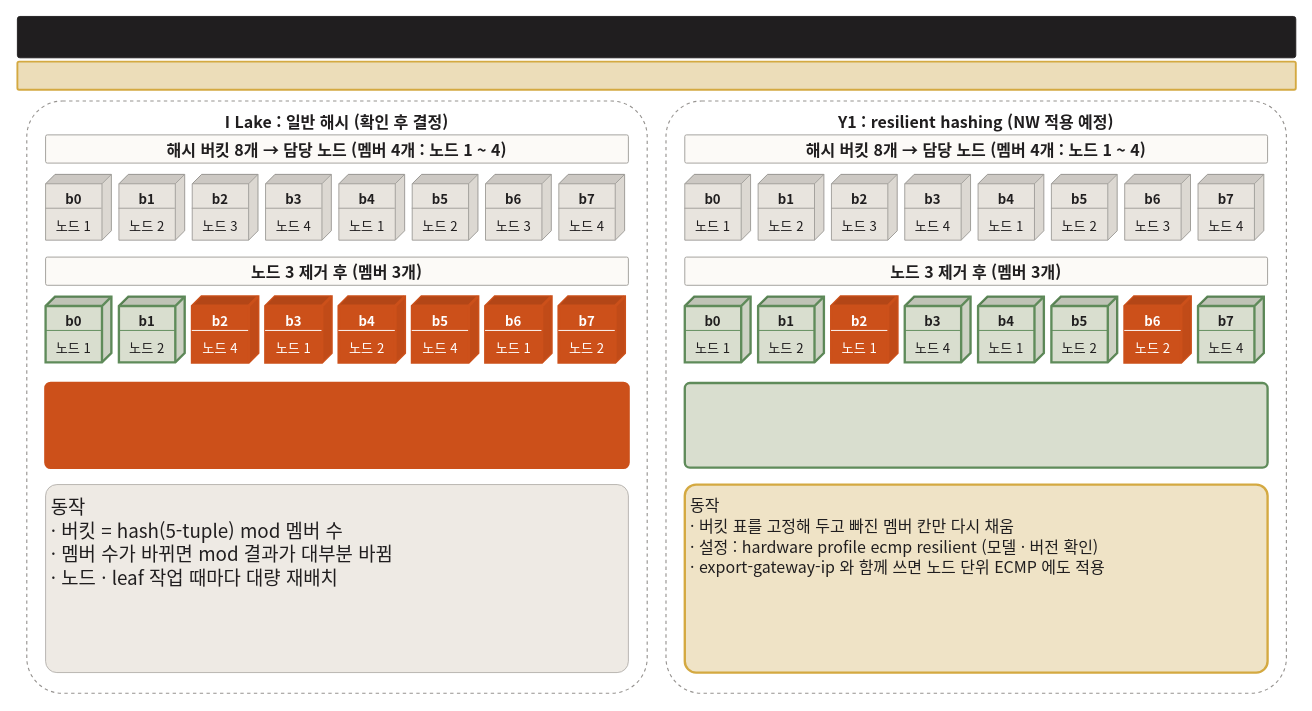
Image size: 1312x711. Some labels were removed from this diagram. The centre of each missing label's shape, as x and y in pixels:
"8개 중 6개 이동 → 살아 있는 노드의 연결까지 다른 노드로 Maglev 가 없으면 이동한 연결은 다른 백엔드로 가서 끊김" goes at pixel 336 425.
"그림 3-1. ECMP 멤버 제거 시 재해시 : 일반 해시 → resilient hashing" goes at pixel 656 37.
"노드 3 몫 2개만 이동, 나머지 6개 그대로 + Maglev 로 이동한 연결도 같은 백엔드 → 유지" goes at pixel 975 424.
"노드 3 이 빠질 때 일반 해시는 살아 있는 노드로 가던 흐름까지 섞음. resilient 는 빠진 노드 몫만 옮김 (NW 적용 예정)" goes at pixel 656 75.
